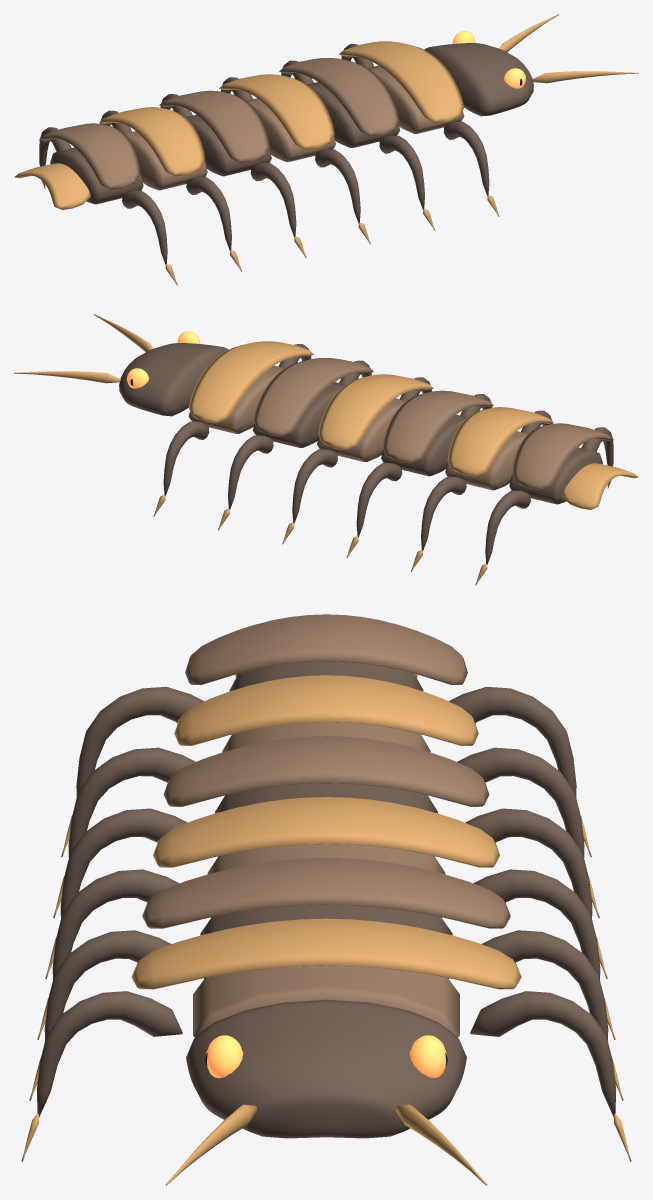
The model's file is arthropleura.glb.
3 views of the same model, one above another, from view 1: azimuth 30°, elevation 25°; view 2: azimuth 150°, elevation 25°; view 3: azimuth 270°, elevation 25° (orthographic). The views are drawn at different scales.
Parts seen in each view (by area): view 1: Arthro_Head, TergitePlate_0, TergitePlate_1, TergitePlate_2, TergitePlate_3, TergitePlate_4, TergitePlate_5, TailTelson, TergiteBody_0, TergiteBody_2, TergiteBody_1, TergiteBody_3 (+11 smaller); view 2: Arthro_Head, TergitePlate_0, TergitePlate_1, TergitePlate_2, TergitePlate_3, TergitePlate_4, TergitePlate_5, TailTelson, TergiteBody_0, TergiteBody_2, TergiteBody_1, TergiteBody_3 (+11 smaller); view 3: Arthro_Head, TergitePlate_0, TergitePlate_1, TergitePlate_2, TergitePlate_3, TergitePlate_4, TergitePlate_5, TergiteBody_0, Leg0_Mesh, Leg1_Mesh, Leg10_Mesh, Leg11_Mesh (+17 smaller).
Boxes of the visible parts, x1,y1,x2,y2 form: Arthro_Head: [424, 43, 533, 116]; TergitePlate_0: [339, 41, 464, 123]; TergitePlate_1: [279, 58, 399, 136]; TergitePlate_2: [219, 74, 334, 149]; TergitePlate_3: [159, 90, 269, 163]; TergitePlate_4: [99, 107, 205, 176]; TergitePlate_5: [39, 123, 140, 189]; TailTelson: [14, 163, 90, 209]; TergiteBody_0: [368, 65, 464, 133]; TergiteBody_2: [247, 98, 335, 161]; TergiteBody_1: [307, 82, 400, 147]; TergiteBody_3: [186, 114, 271, 176]; Arthro_Head: [119, 343, 228, 416]; TergitePlate_0: [188, 341, 313, 423]; TergitePlate_1: [253, 358, 373, 436]; TergitePlate_2: [318, 374, 433, 449]; TergitePlate_3: [383, 390, 493, 463]; TergitePlate_4: [447, 407, 553, 476]; TergitePlate_5: [512, 423, 613, 489]; TailTelson: [562, 463, 638, 509]; TergiteBody_0: [188, 365, 284, 433]; TergiteBody_2: [317, 398, 405, 461]; TergiteBody_1: [252, 382, 345, 447]; TergiteBody_3: [381, 414, 466, 476]; Arthro_Head: [186, 999, 466, 1138]; TergitePlate_0: [131, 918, 521, 989]; TergitePlate_1: [142, 858, 510, 928]; TergitePlate_2: [153, 797, 499, 867]; TergitePlate_3: [163, 736, 489, 806]; TergitePlate_4: [174, 675, 478, 745]; TergitePlate_5: [185, 614, 467, 684]; TergiteBody_0: [193, 966, 459, 1036]; Leg0_Mesh: [470, 991, 616, 1117]; Leg1_Mesh: [36, 991, 182, 1117]; Leg10_Mesh: [449, 686, 576, 797]; Leg11_Mesh: [76, 686, 203, 797].
Size of the model in its own units: 3.08 by 0.5586 by 1.44.
